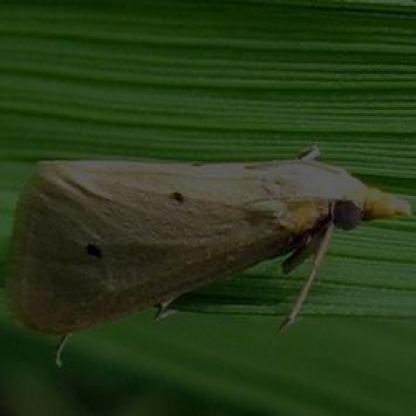stem-borer: (2, 148, 416, 348)
